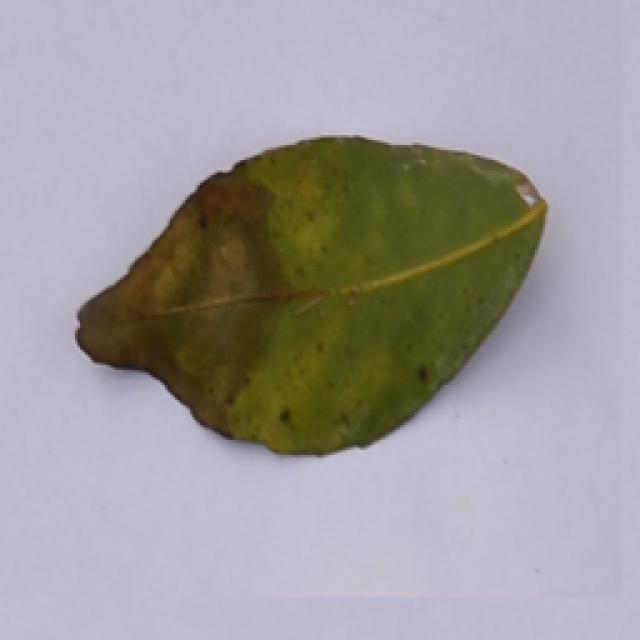blackspot: (67, 79, 557, 492)
